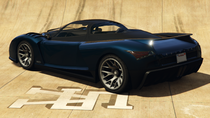car: (12, 19, 201, 91)
